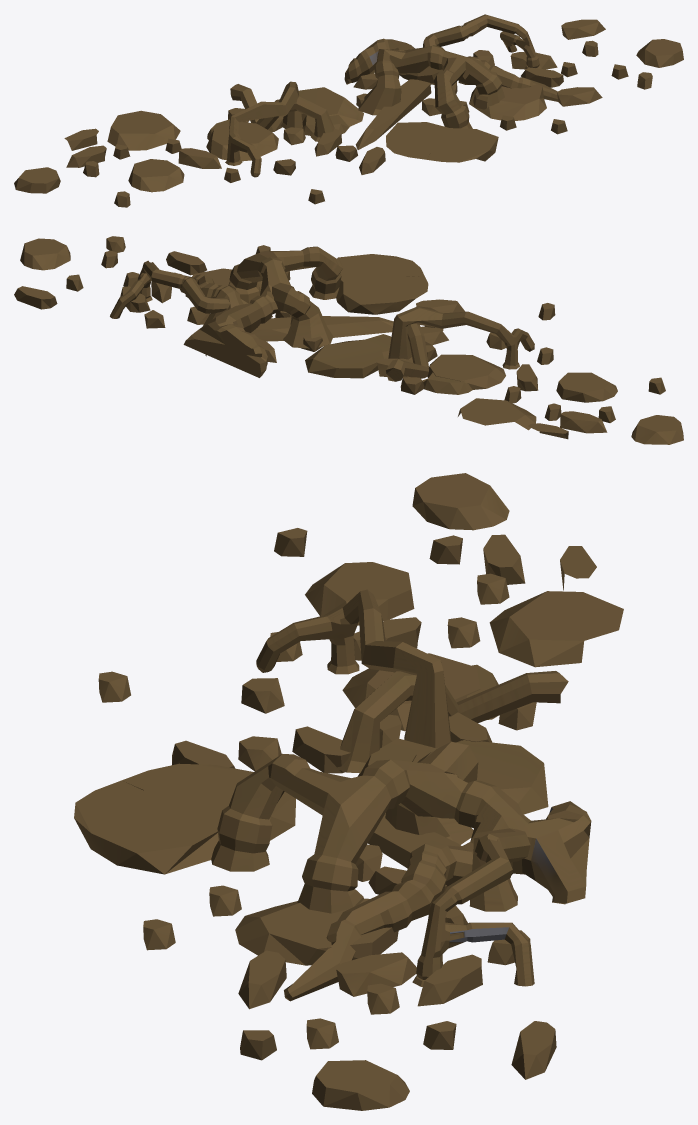
The model's file is EA_Swamp_Dirt_Root_Half_04e.glb.
3 renders of one model, top to bottom at view 1: azimuth 30°, elevation 25°; view 2: azimuth 150°, elevation 25°; view 3: azimuth 270°, elevation 25°, orthographic. The views are drawn at different scales.
Visible parts, largest first — view 1: EA_Swamp_Dirt_Root_Half_04e; view 2: EA_Swamp_Dirt_Root_Half_04e; view 3: EA_Swamp_Dirt_Root_Half_04e.
Part boxes in pixels (left/top/right/bottom): EA_Swamp_Dirt_Root_Half_04e: left=14, top=14, right=683, bottom=207; EA_Swamp_Dirt_Root_Half_04e: left=14, top=236, right=683, bottom=444; EA_Swamp_Dirt_Root_Half_04e: left=74, top=473, right=623, bottom=1110.
Bounding box in the file's own units: 9.26 × 0.9212 × 3.45.
Materials: 1 (1 with a texture image).
